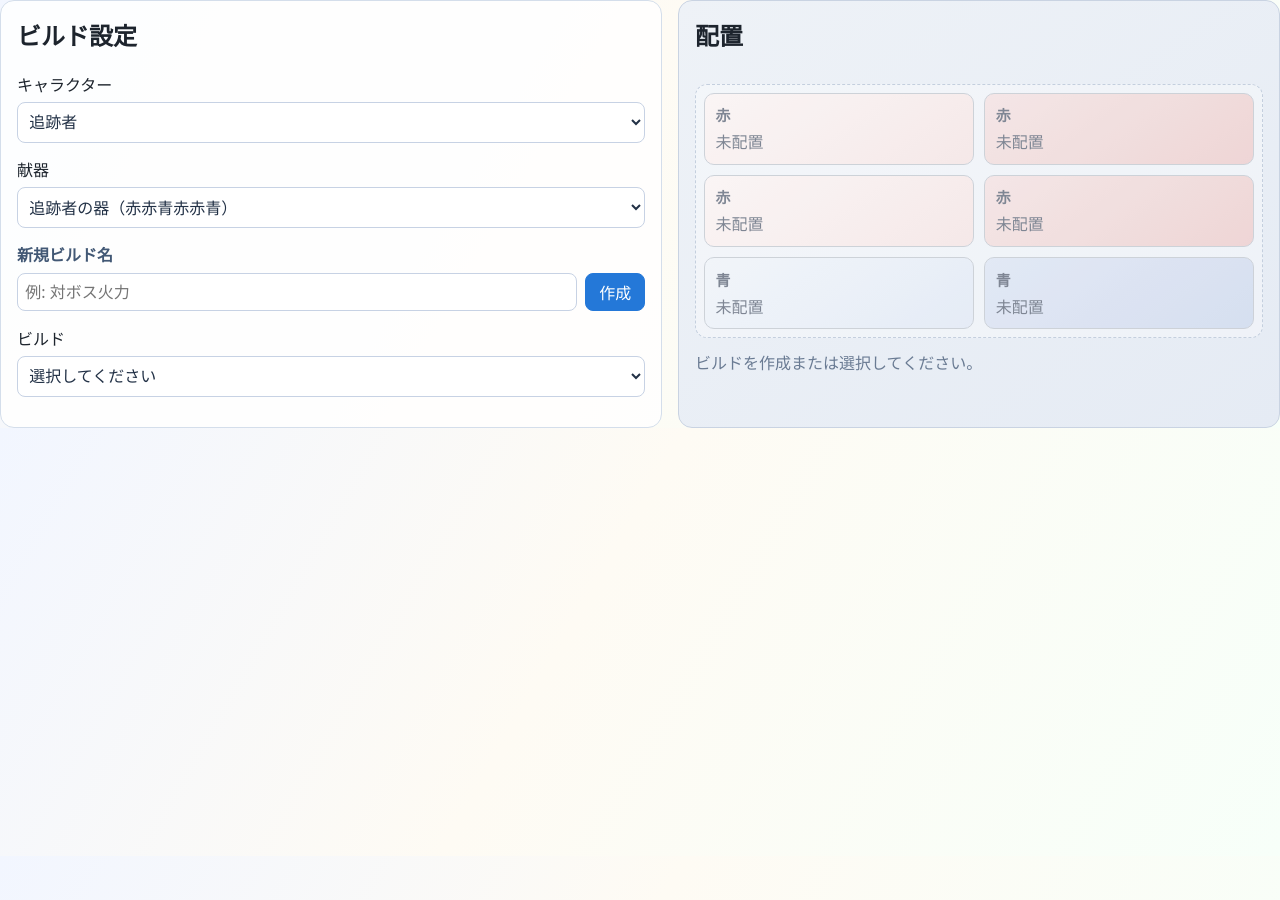
Test: LoadoutTab filtering › grays slots and shows hint when clicking a slot without selecting a loadout
Click the 1st button "赤 未配置". click: coordinates (739, 142)
box: x1=704 y1=93 x2=974 y2=165
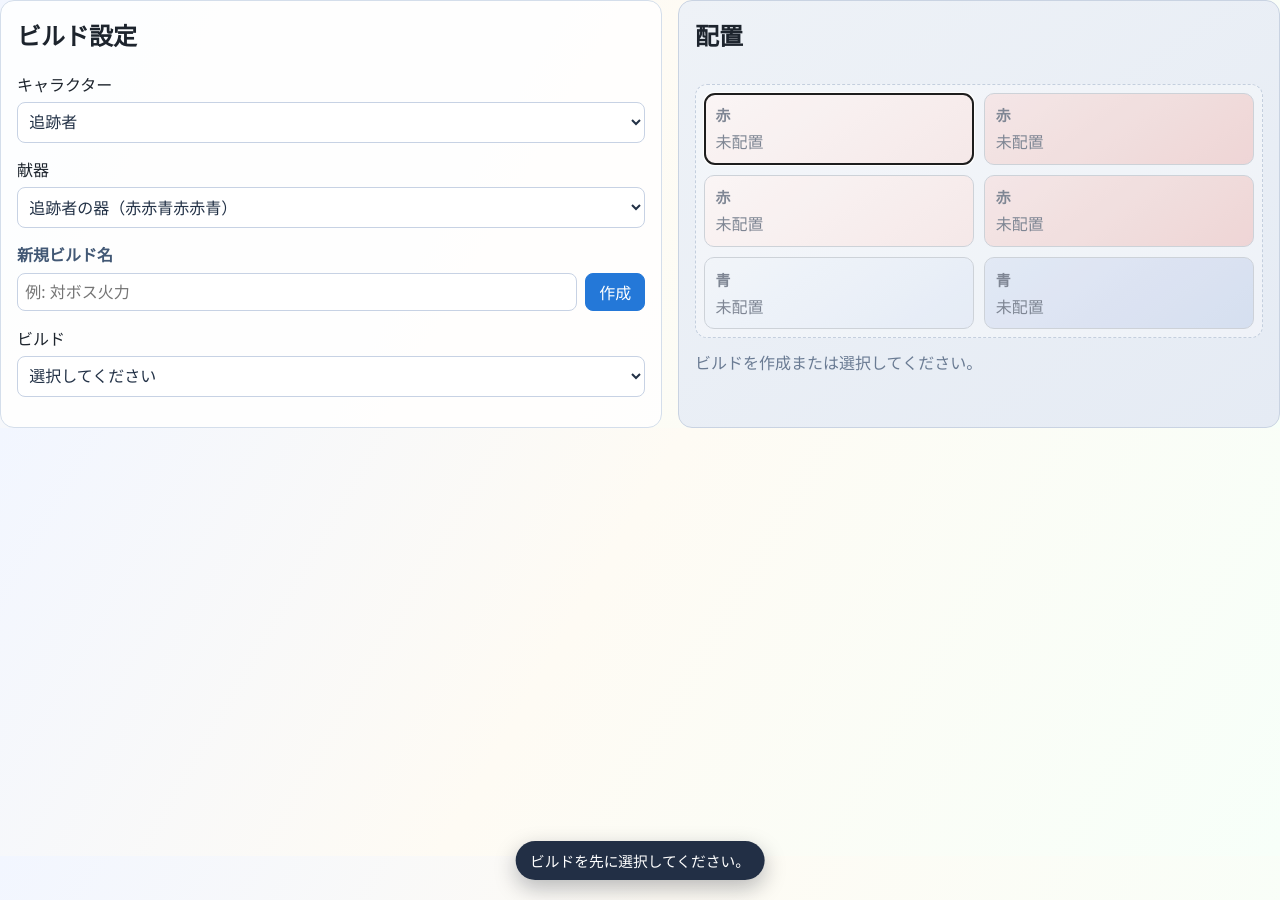
expect the message reads "ビルドを先に選択してください。": met, box x1=530 y1=851 x2=750 y2=871
